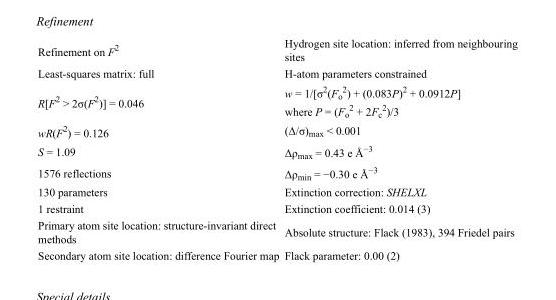table: (37, 36, 516, 261)
table column: (37, 36, 281, 261), (281, 36, 516, 261)
table row: (37, 81, 516, 120), (37, 216, 516, 246), (37, 36, 516, 64), (37, 140, 516, 162), (37, 162, 516, 183), (37, 120, 516, 140), (37, 64, 516, 81), (37, 199, 516, 216), (37, 183, 516, 199), (37, 246, 516, 261)
